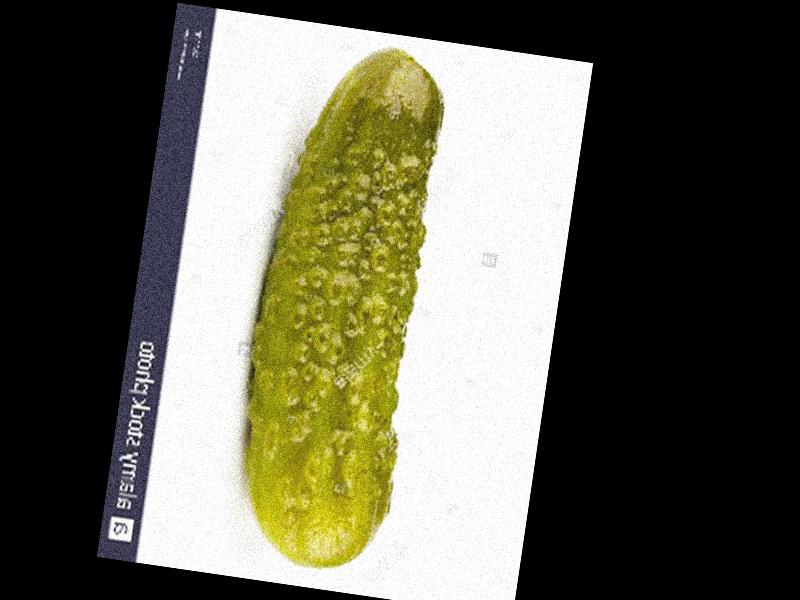Cucumber: (222, 32, 455, 577)
